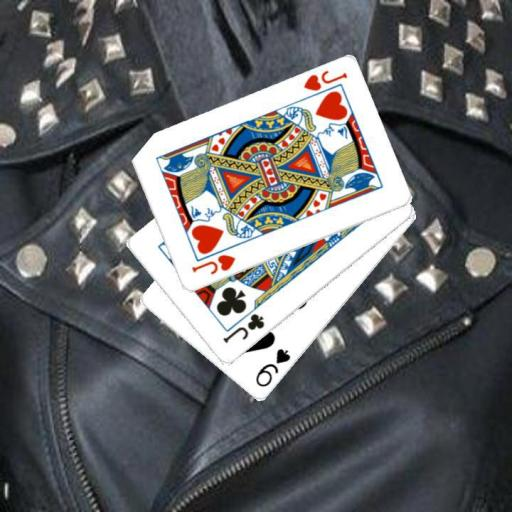9S: (253, 346, 293, 389)
JC: (220, 310, 266, 345)
JH: (188, 252, 237, 277), (300, 68, 349, 93)
